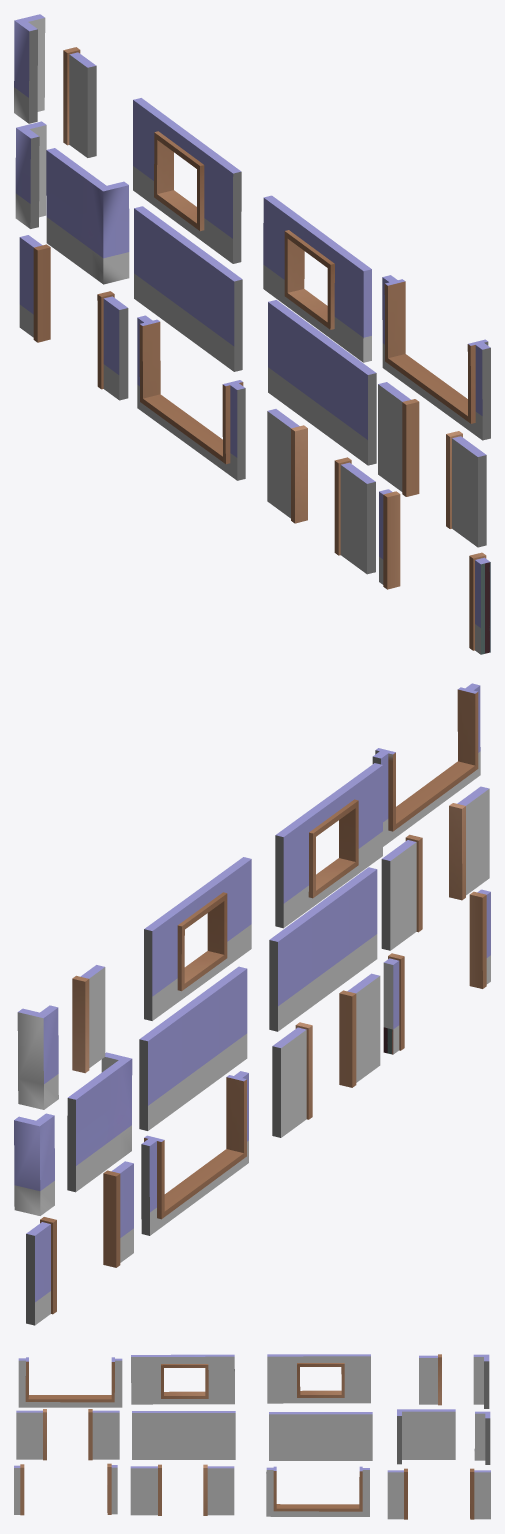
The model's file is solo parets lila .fbx.
3 renders of one model, top to bottom at view 1: azimuth 30°, elevation 25°; view 2: azimuth 150°, elevation 25°; view 3: azimuth 270°, elevation 25°, orthographic. The views are drawn at different scales.
Parts seen in each view (by area): view 1: paret_basica_tipo_7, paret_basica_tipo_8, paret_ventana_tipo_7, paret_ventana_tipo_8, paret_estrecha_tipo_5, paret_puerta_tipo_9, paret_puerta_tipo_10, paret_con_ventana_grande_tipo_8, paret_con_ventana_grande_tipo_7, paret_doblepuerta_tipo_4, paret_garaje_tipo_5, paret_con_borde_tipo_7 (+2 smaller); view 2: paret_basica_tipo_7, paret_basica_tipo_8, paret_ventana_tipo_7, paret_ventana_tipo_8, paret_puerta_tipo_9, paret_puerta_tipo_10, paret_estrecha_tipo_5, paret_con_ventana_grande_tipo_8, paret_doblepuerta_tipo_4, paret_con_ventana_grande_tipo_7, paret_garaje_tipo_5, paret_esquina_tipo_11 (+2 smaller); view 3: paret_basica_tipo_7, paret_basica_tipo_8, paret_ventana_tipo_7, paret_ventana_tipo_8, paret_puerta_tipo_9, paret_puerta_tipo_10, paret_estrecha_tipo_5, paret_con_ventana_grande_tipo_7, paret_con_ventana_grande_tipo_8, paret_doblepuerta_tipo_4, paret_con_borde_tipo_7, paret_garaje_tipo_5 (+2 smaller).
Boxes of the visible parts, <box> form: paret_basica_tipo_7: <box>268,300,376,465</box>; paret_basica_tipo_8: <box>134,206,242,371</box>; paret_ventana_tipo_7: <box>263,195,371,362</box>; paret_ventana_tipo_8: <box>133,98,241,263</box>; paret_estrecha_tipo_5: <box>46,148,129,284</box>; paret_puerta_tipo_9: <box>267,409,375,574</box>; paret_puerta_tipo_10: <box>378,382,486,547</box>; paret_con_ventana_grande_tipo_8: <box>137,315,245,480</box>; paret_con_ventana_grande_tipo_7: <box>382,275,490,440</box>; paret_doblepuerta_tipo_4: <box>19,235,128,400</box>; paret_garaje_tipo_5: <box>379,489,490,654</box>; paret_con_borde_tipo_7: <box>63,47,96,157</box>; paret_basica_tipo_7: <box>269,867,377,1031</box>; paret_basica_tipo_8: <box>139,966,247,1130</box>; paret_ventana_tipo_7: <box>275,763,382,928</box>; paret_ventana_tipo_8: <box>144,857,251,1020</box>; paret_puerta_tipo_9: <box>272,973,380,1137</box>; paret_puerta_tipo_10: <box>381,786,489,950</box>; paret_estrecha_tipo_5: <box>67,1052,132,1192</box>; paret_con_ventana_grande_tipo_8: <box>141,1071,248,1235</box>; paret_doblepuerta_tipo_4: <box>26,1161,133,1325</box>; paret_con_ventana_grande_tipo_7: <box>372,683,480,846</box>; paret_garaje_tipo_5: <box>383,889,490,1054</box>; paret_esquina_tipo_11: <box>17,1005,58,1109</box>; paret_basica_tipo_7: <box>132,1411,235,1459</box>; paret_basica_tipo_8: <box>269,1412,372,1460</box>; paret_ventana_tipo_7: <box>131,1354,234,1404</box>; paret_ventana_tipo_8: <box>267,1354,370,1403</box>; paret_puerta_tipo_9: <box>130,1464,234,1515</box>; paret_puerta_tipo_10: <box>16,1409,119,1460</box>; paret_estrecha_tipo_5: <box>397,1409,455,1464</box>; paret_con_ventana_grande_tipo_7: <box>18,1357,122,1407</box>; paret_con_ventana_grande_tipo_8: <box>266,1466,369,1516</box>; paret_doblepuerta_tipo_4: <box>387,1468,490,1519</box>; paret_con_borde_tipo_7: <box>419,1354,441,1405</box>; paret_garaje_tipo_5: <box>14,1463,117,1515</box>.
Size of the model in its own units: 112 by 1144 by 3048.
